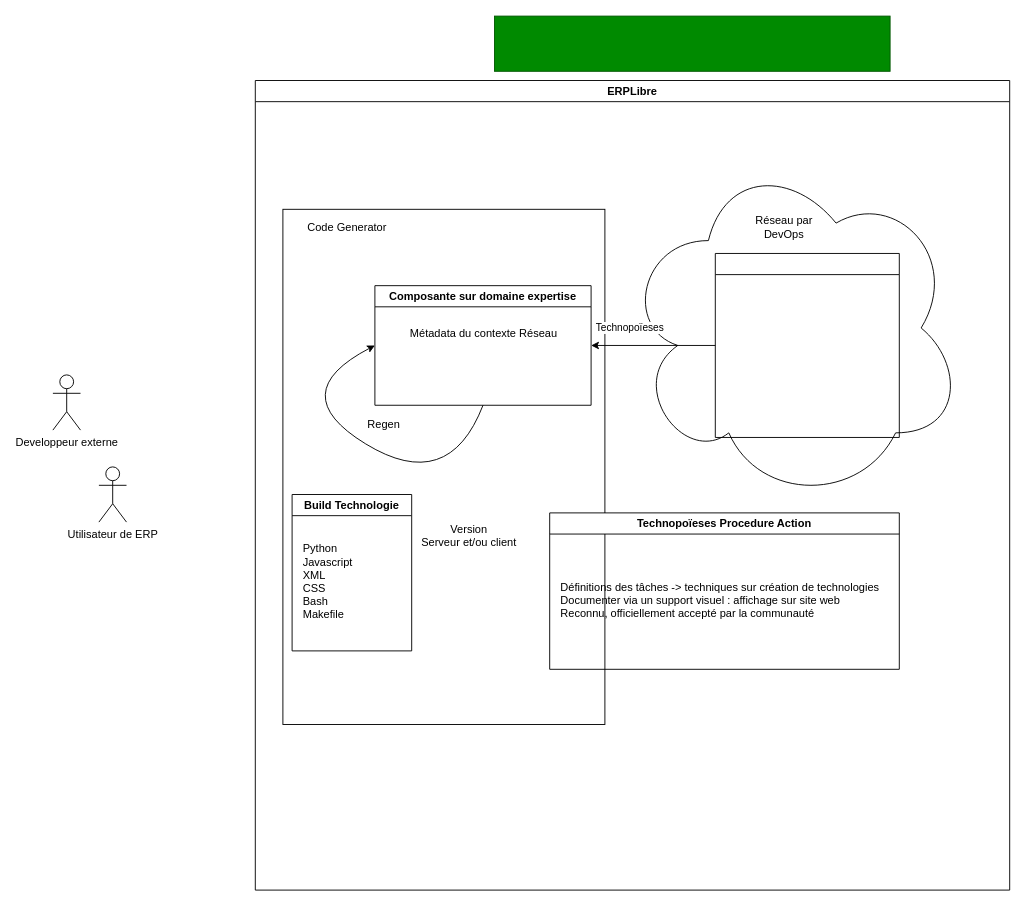
Image size: 1026x906. Some labels were removed from this diagram. The centre of each missing label's shape, as x and y in pixels:
Instance RobotLibre: the point at 806,345
Système d'autopoïèse ERPLibre Industrie 4.0: the point at 692,43
